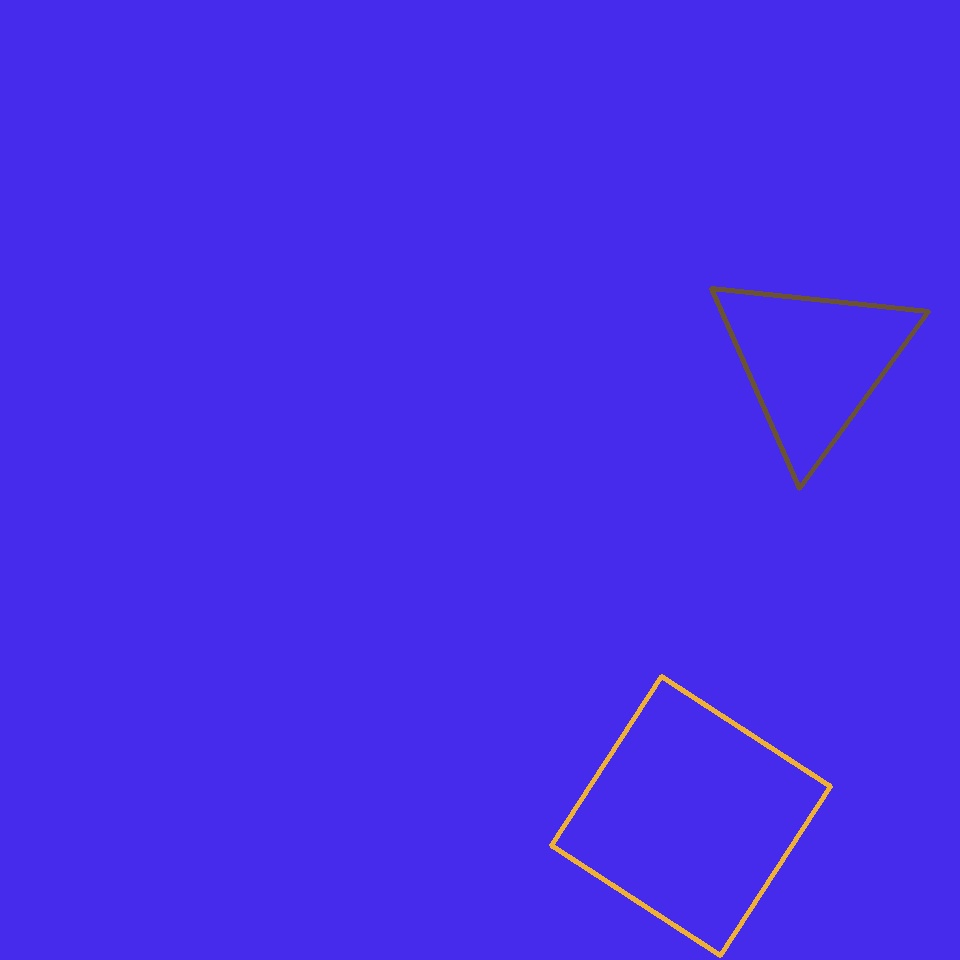circle: (704, 263, 922, 463)
square: (552, 676, 831, 956)
